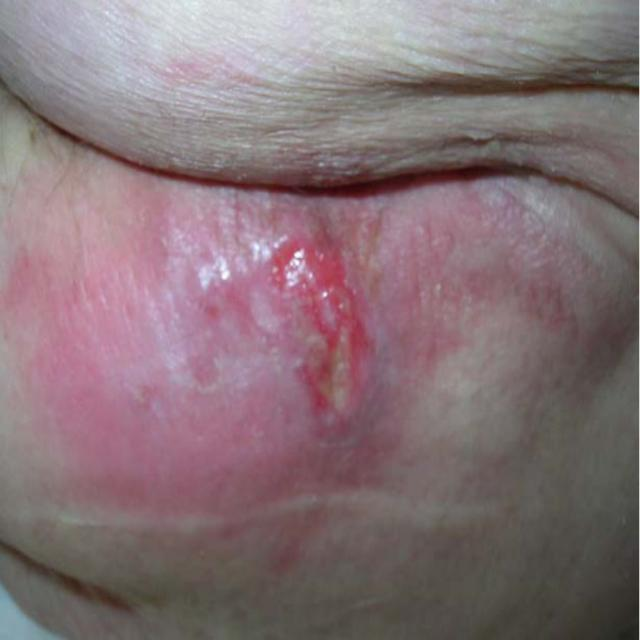stage-2: (270, 239, 370, 429)
